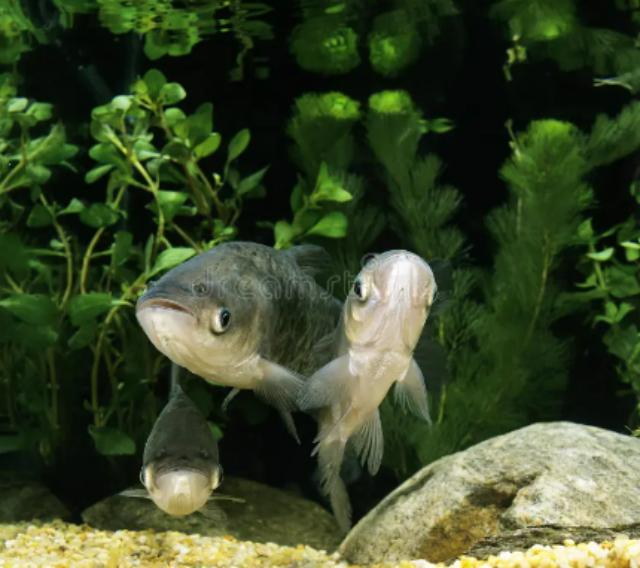Mulut: (130, 282, 204, 332), (146, 456, 222, 499), (366, 243, 436, 287)
Sirip Dada: (244, 340, 320, 412), (290, 351, 358, 415), (396, 346, 444, 424), (209, 483, 253, 514), (114, 475, 148, 507)
Sirip Perut: (310, 401, 398, 479)
Sirip Punggung: (273, 225, 359, 299)
